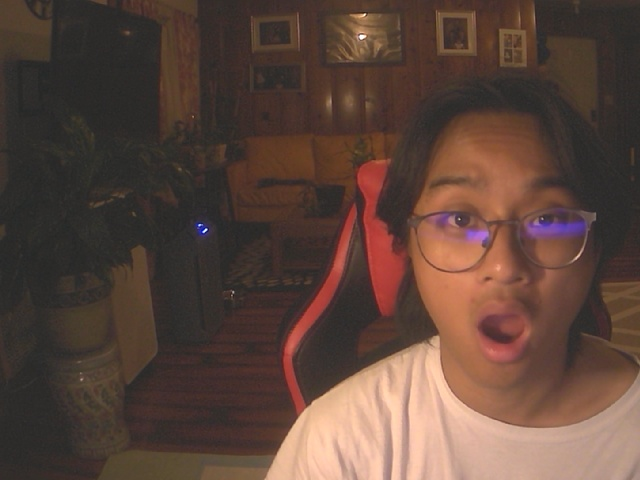fear: (372, 71, 632, 394)
